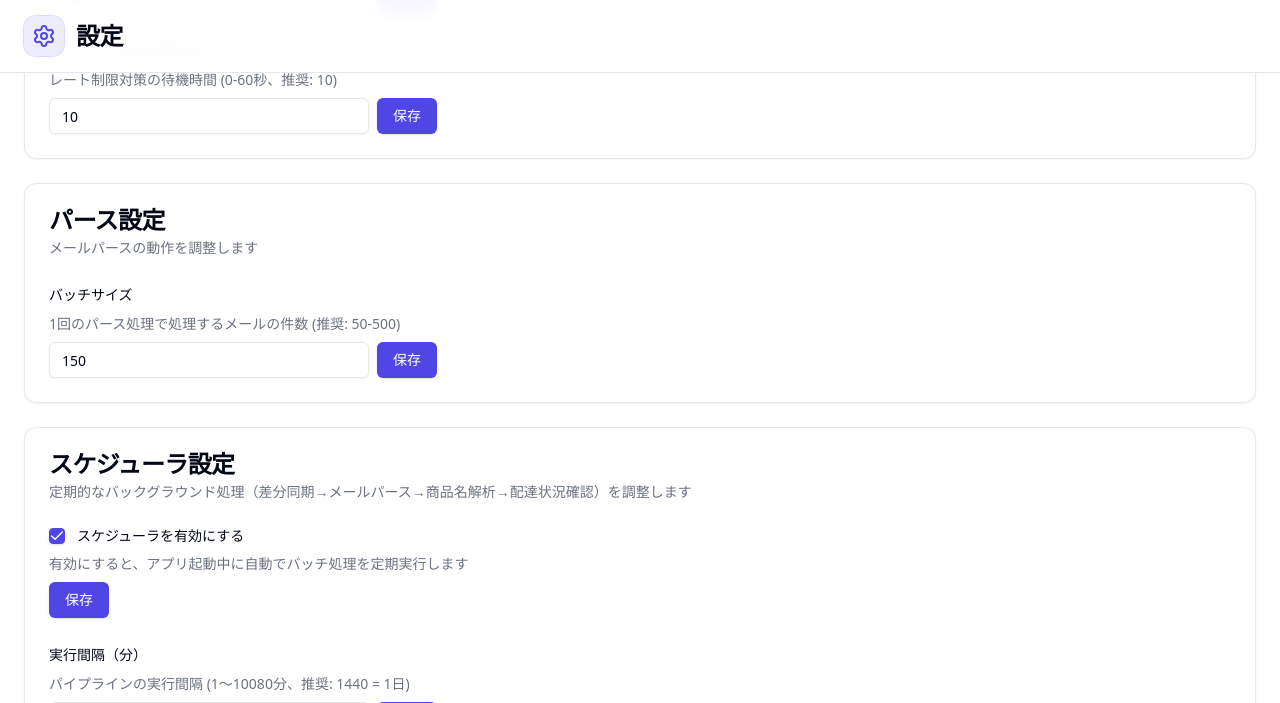
Test: Settings › handleSaveParseBatchSize › saves parse batch size successfully
(page scrolled)
Check: the number field labelled "バッチサイズ" holds "150", box [49,342,369,378]
Click the button with aria-label "パースバッチサイズを保存": (407, 360) [377,342,437,378]
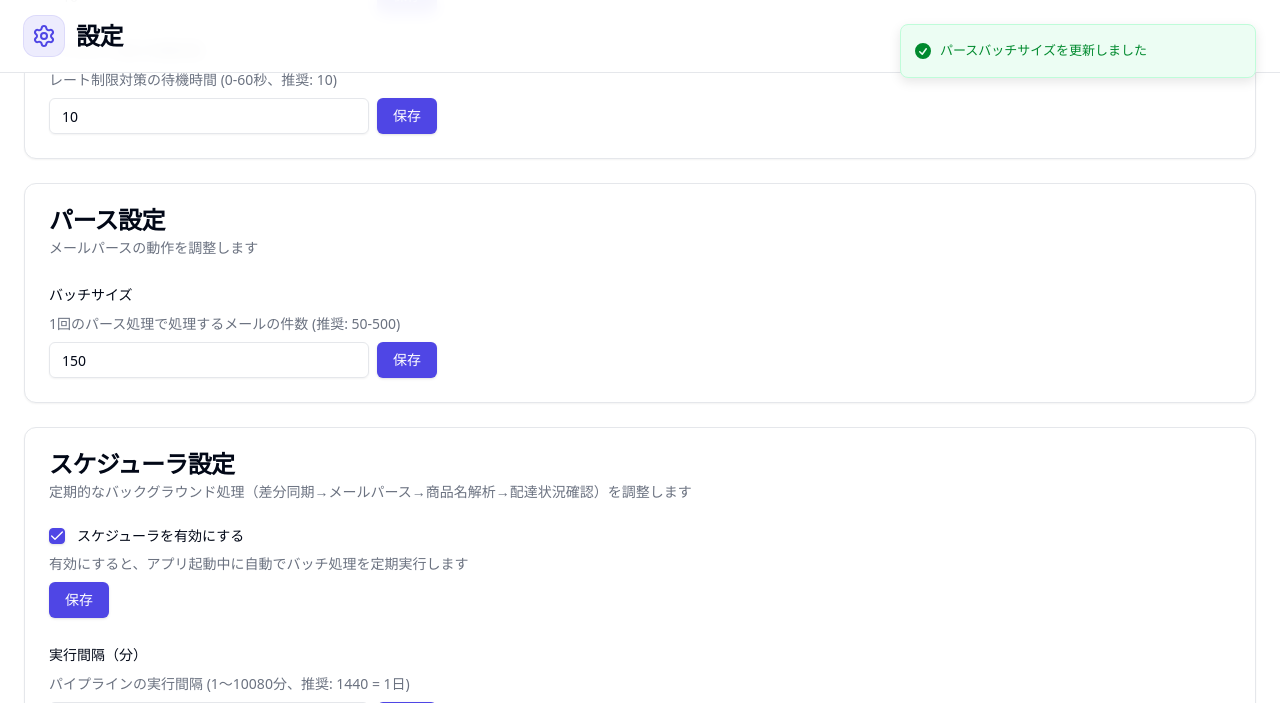
Check: the text "パースバッチサイズを更新しました" is shown, box [940,41,1147,60]
